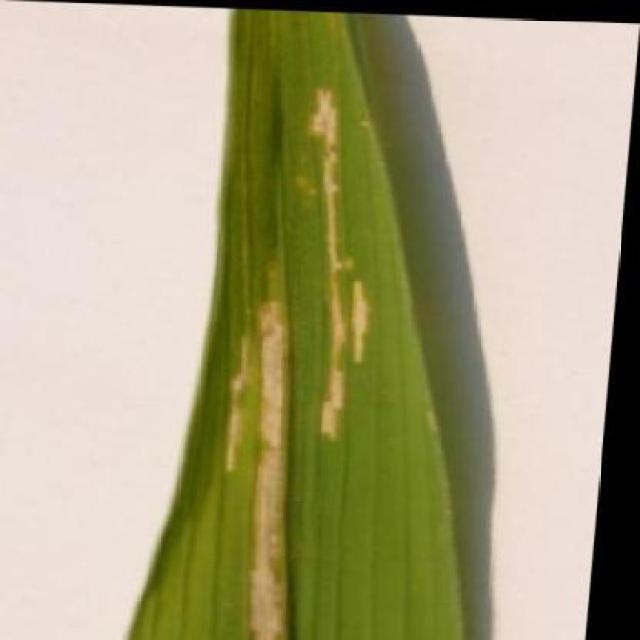Brown_Spot: (127, 4, 521, 640)
